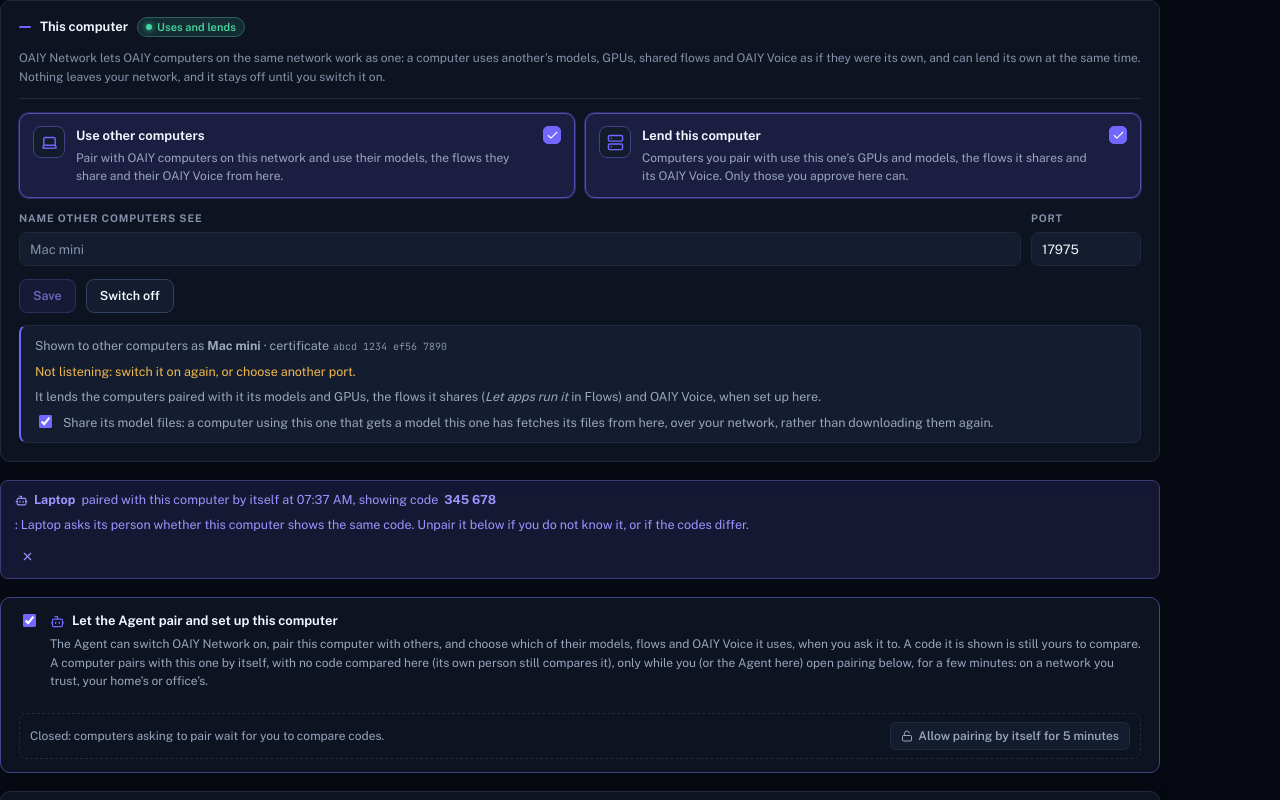
NetworkPanel › opens pairing by itself for five minutes where the Agent may set it up, and says who paired so, with the code
expect the message with class "network-by-itself" shows "345 678": met, box [444,492,496,507]
expect the element with test id "network-window" shows "Closed": met, box [30,729,384,743]
Step 1. Click the button "Allow pairing by itself for 5 minutes" → click(1010, 736), box [890,722,1130,750]
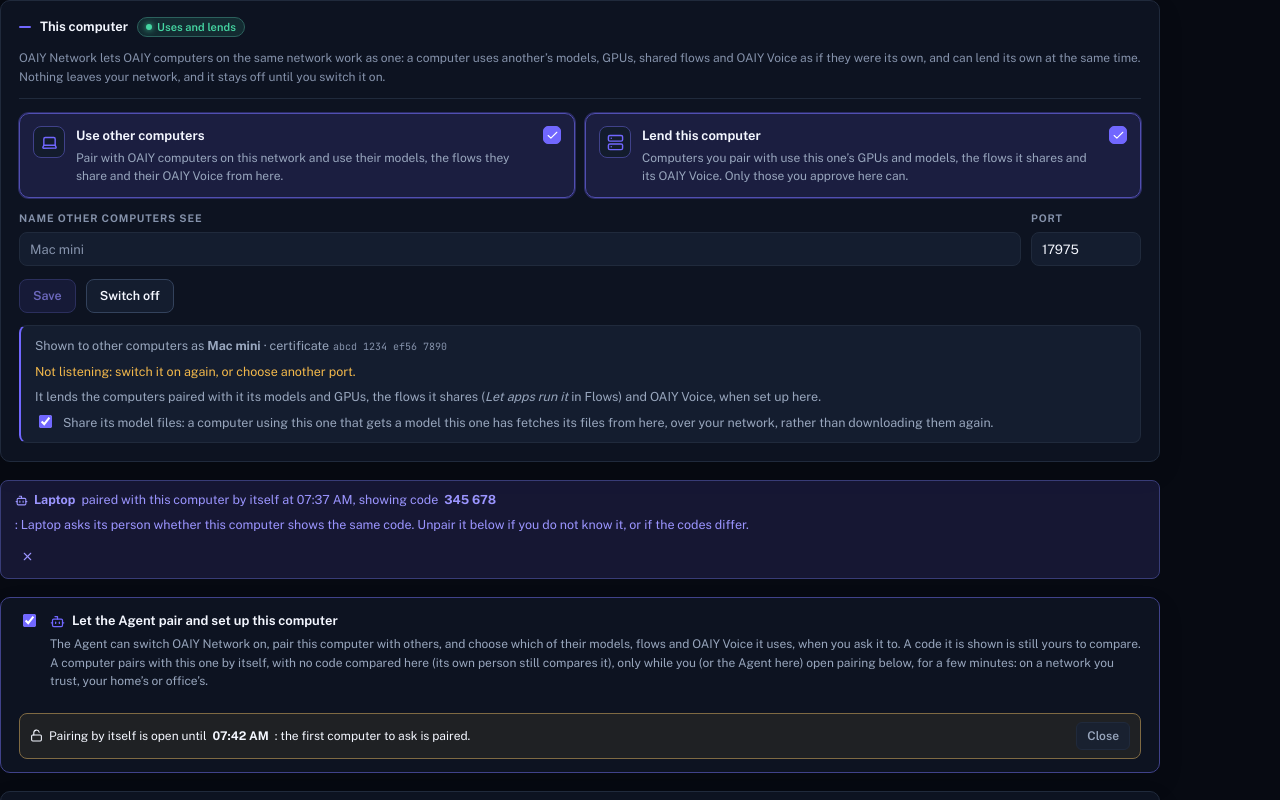
expect the element with test id "network-window" shows "Pairing by itself is open until": met, box [49,729,206,743]
